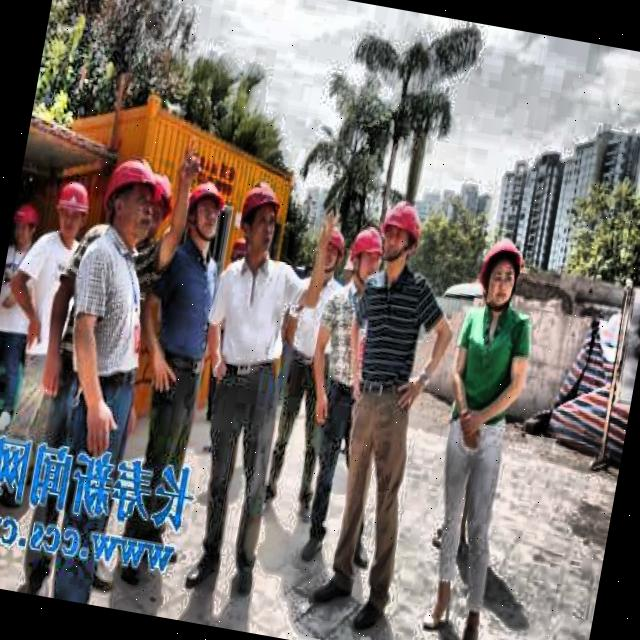helmet: (94, 145, 167, 246), (468, 226, 532, 312), (233, 178, 285, 266), (178, 176, 231, 254), (377, 196, 428, 274), (133, 163, 176, 244), (46, 177, 94, 242), (345, 224, 384, 288), (312, 212, 348, 281), (9, 194, 46, 252)
